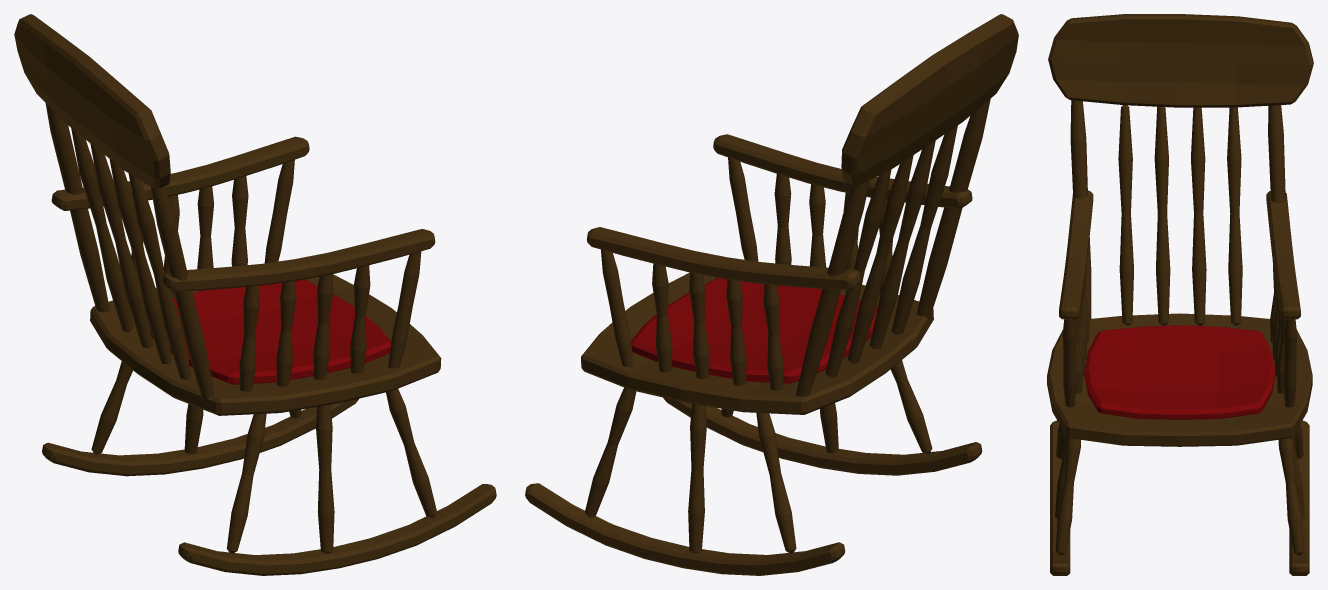
Rendered from Schaukelstuhl.fbx.
The picture shows the model from 3 angles, left to right: view 1: azimuth 30°, elevation 25°; view 2: azimuth 150°, elevation 25°; view 3: azimuth 270°, elevation 25°; orthographic projection. The views are drawn at different scales.
Parts seen in each view (by area): view 1: Schaukelstuhl; view 2: Schaukelstuhl; view 3: Schaukelstuhl.
Boxes of the visible parts, x1,y1,x2,y2 form: Schaukelstuhl: [14, 14, 496, 575]; Schaukelstuhl: [525, 14, 1018, 575]; Schaukelstuhl: [1047, 14, 1313, 575].
Size of the model in its own units: 149 by 203 by 111.
